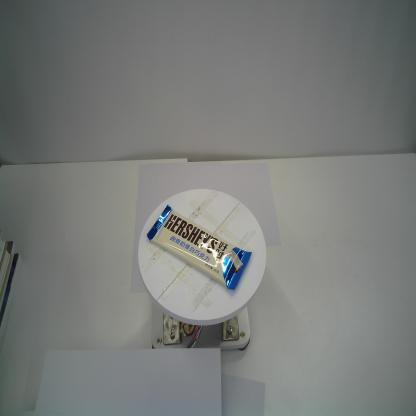Chocolate: (146, 203, 253, 291)
